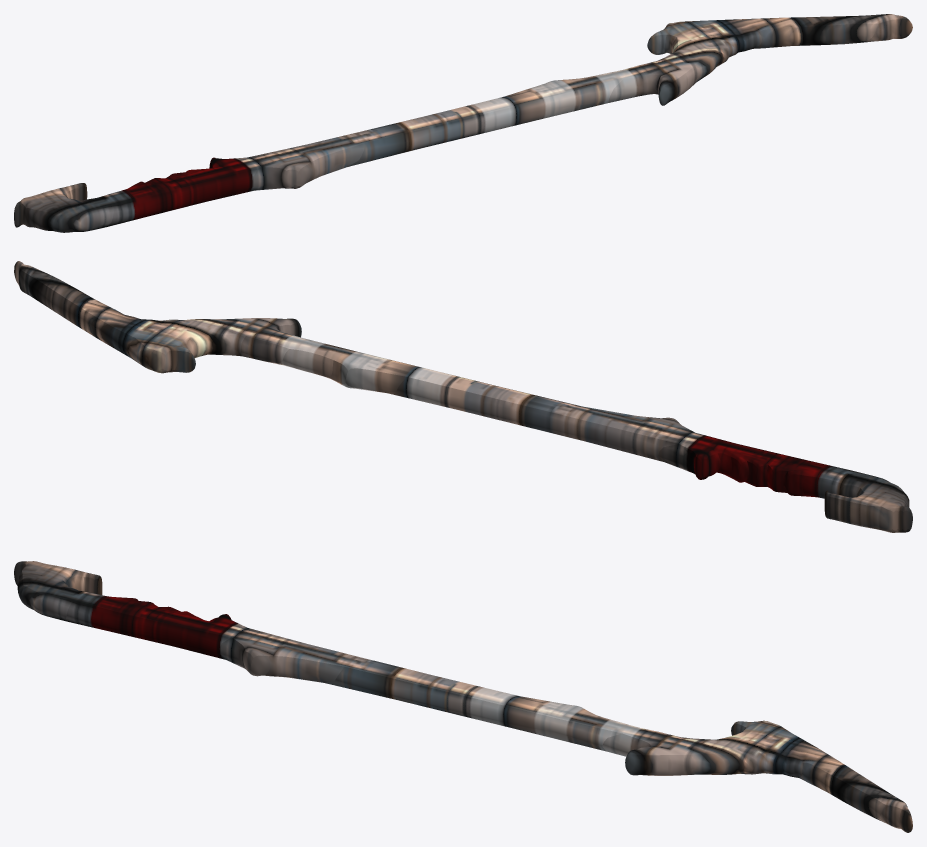
File: RocketThrower.fbx
3 renders of one model, top to bottom at view 1: azimuth 30°, elevation 25°; view 2: azimuth 150°, elevation 25°; view 3: azimuth 330°, elevation 25°, orthographic. The views are drawn at different scales.
Parts seen in each view (by area): view 1: RocketThrower; view 2: RocketThrower; view 3: RocketThrower.
Boxes of the visible parts, x1,y1,x2,y2 form: RocketThrower: [14, 14, 912, 232]; RocketThrower: [14, 261, 912, 532]; RocketThrower: [14, 561, 912, 832].
Size of the model in its own units: 181 by 4.94 by 23.3.
1 material, 1 textured.
